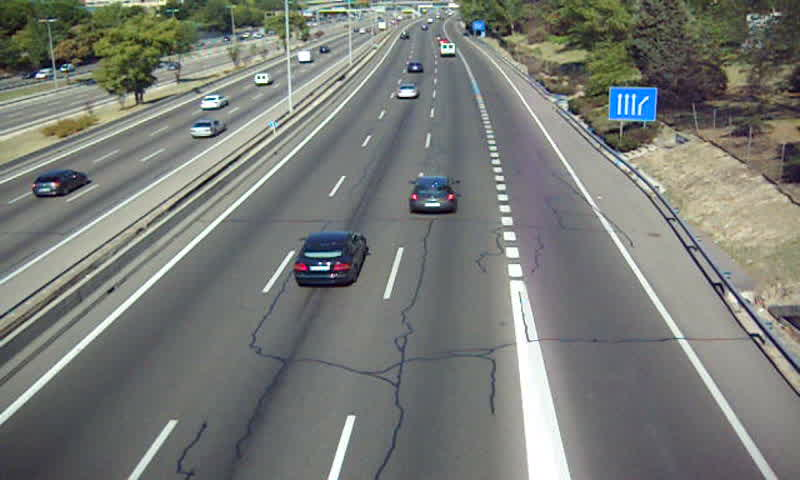car: (295, 232, 366, 286), (409, 176, 455, 213), (394, 83, 419, 100), (405, 62, 424, 77)
